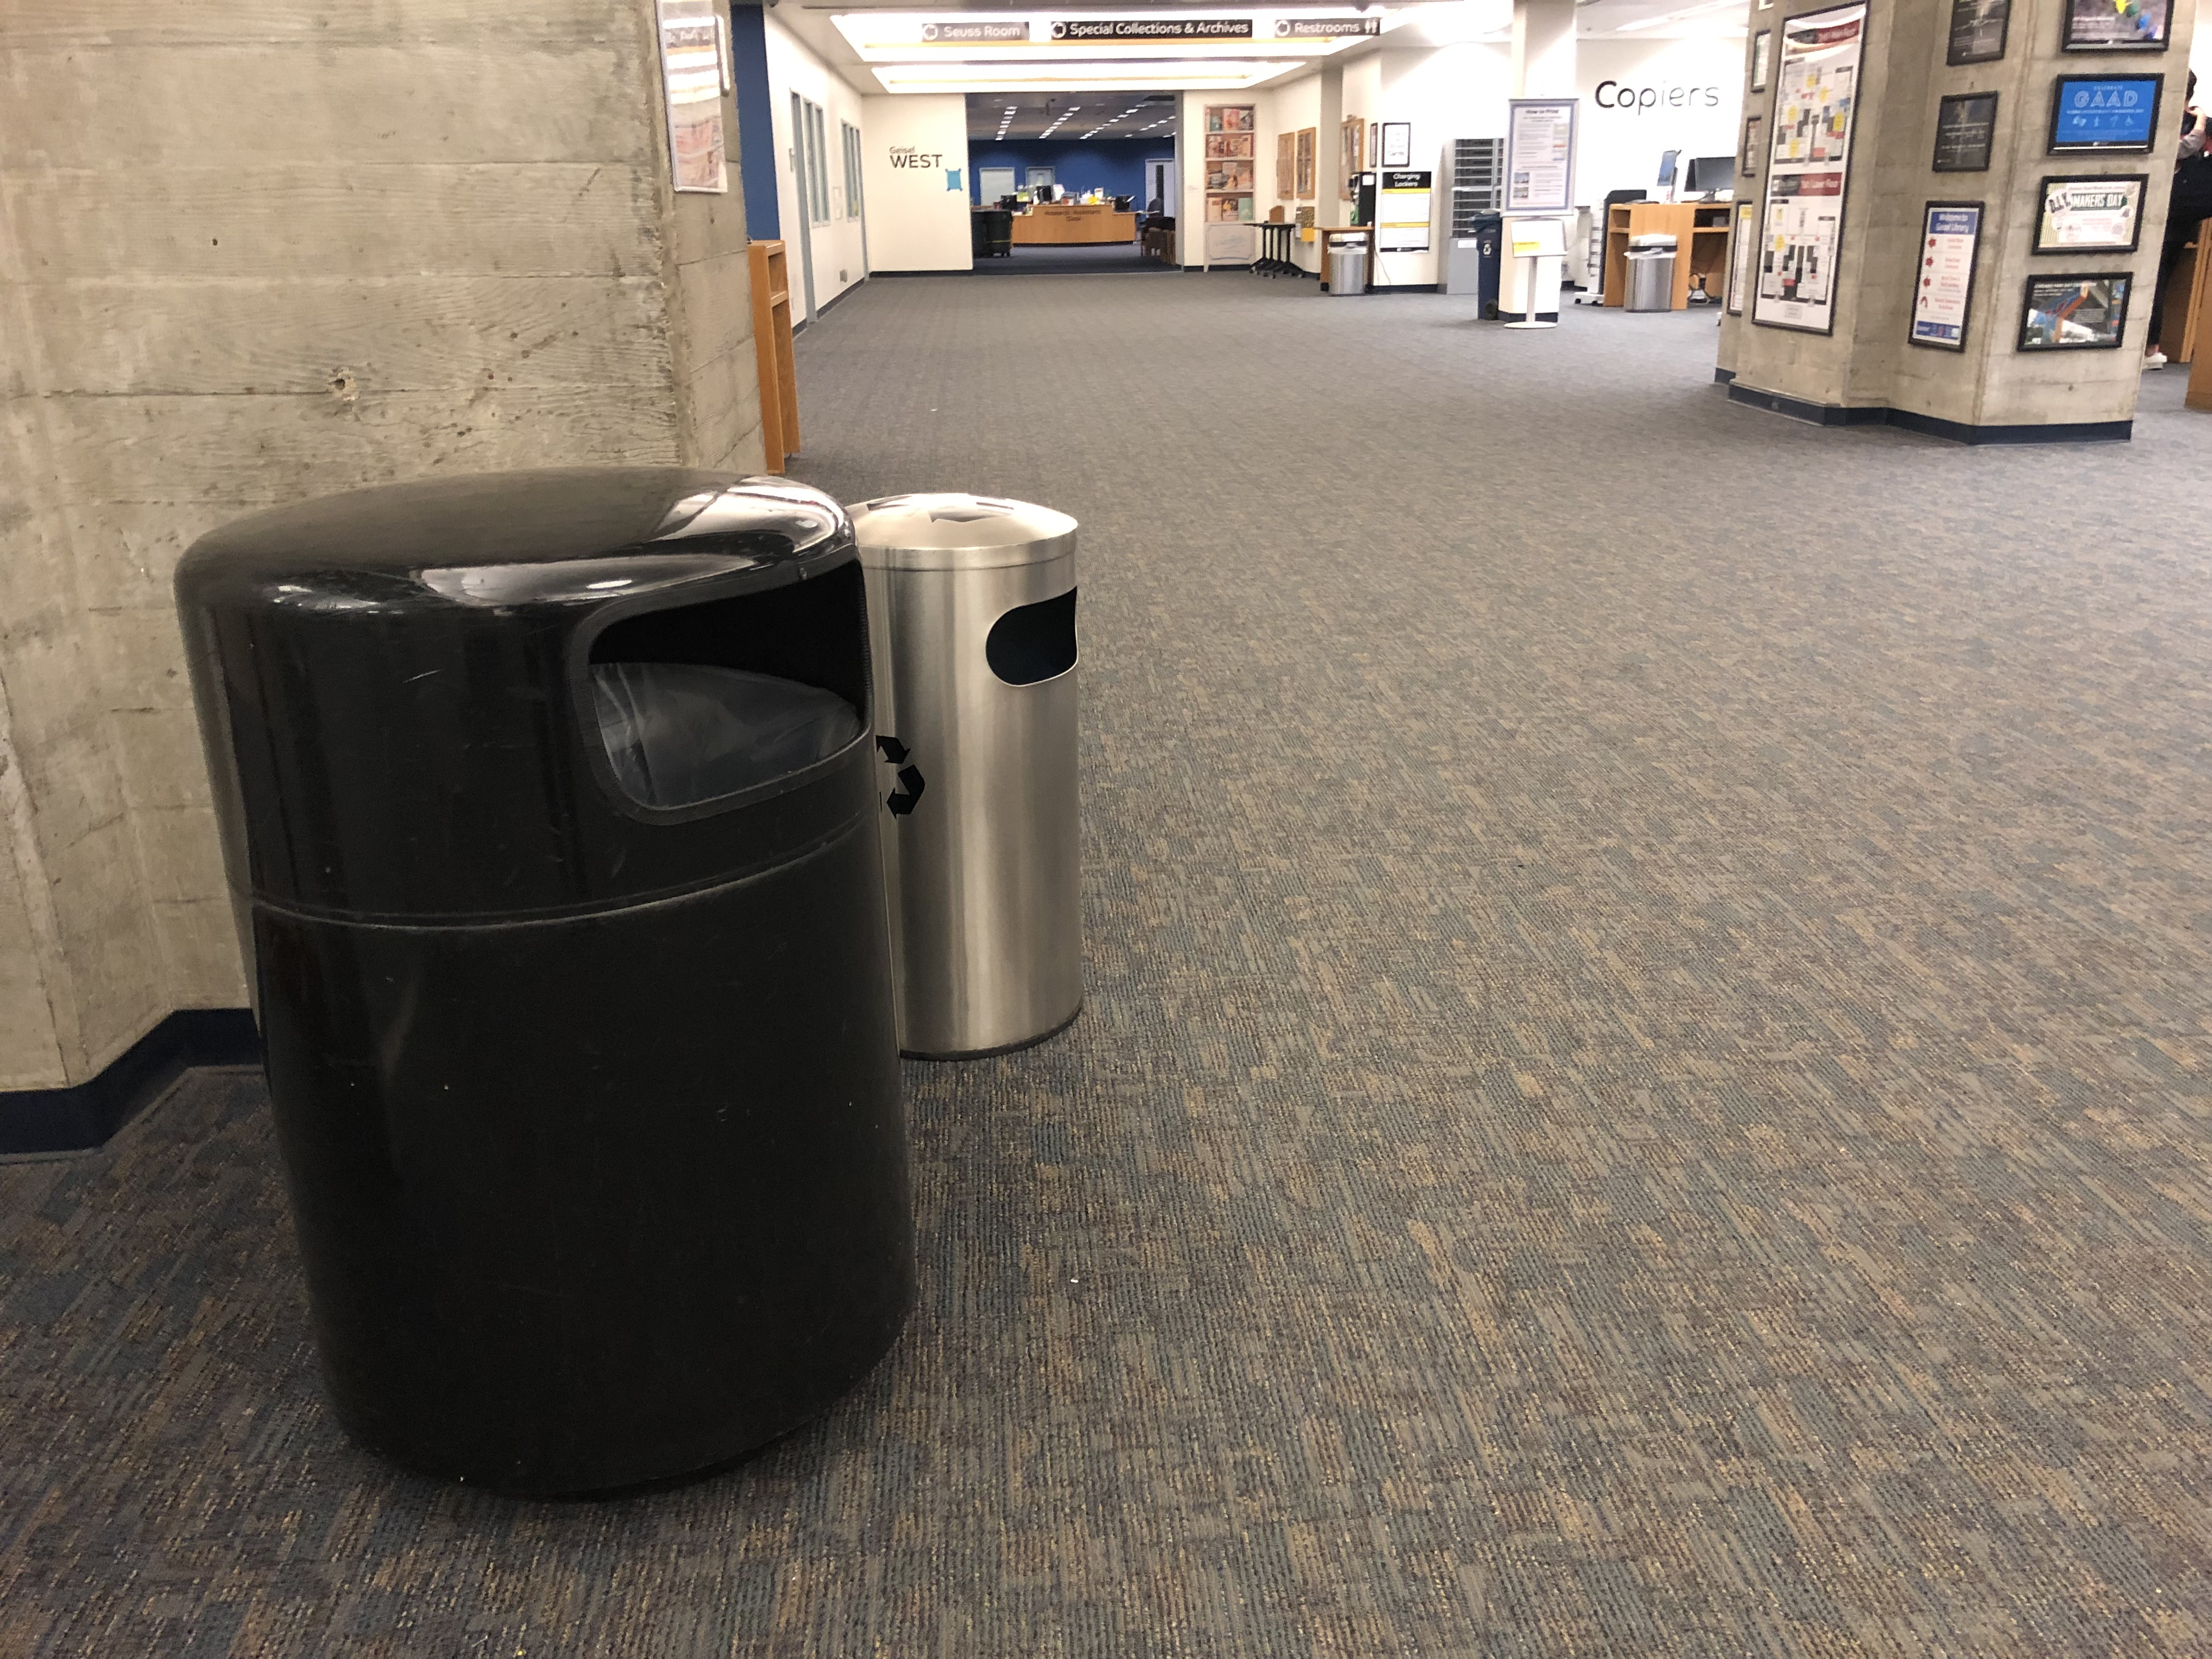Obstacle: (160, 481, 944, 1497), (2, 5, 253, 1147), (1702, 26, 2163, 448), (841, 448, 1101, 1070), (1440, 31, 1597, 338)
